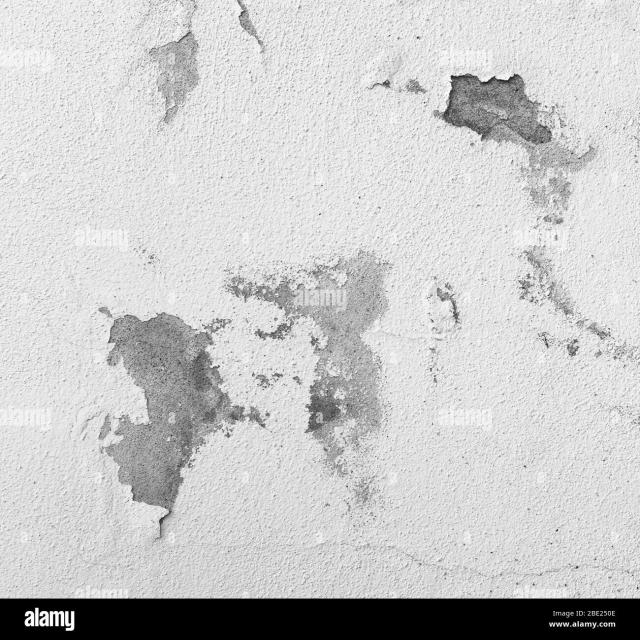peeling paint: (88, 0, 640, 563)
